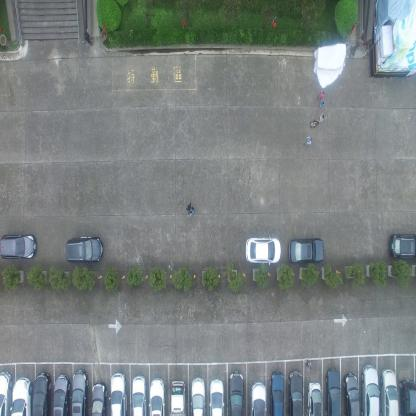car: (64, 235, 104, 264), (244, 235, 282, 265), (360, 364, 380, 416), (0, 232, 37, 260), (288, 237, 325, 265), (380, 366, 399, 415), (32, 370, 51, 416), (70, 367, 88, 415), (10, 374, 31, 415), (388, 231, 416, 260), (342, 372, 360, 416), (325, 366, 341, 415), (228, 368, 244, 415), (398, 374, 416, 415), (52, 374, 70, 415), (288, 370, 304, 416), (110, 372, 127, 415), (131, 373, 148, 415), (269, 370, 284, 415), (169, 380, 187, 416), (209, 376, 225, 416), (306, 379, 323, 415), (249, 380, 266, 416), (149, 377, 165, 415), (190, 377, 205, 415), (0, 368, 12, 415), (91, 380, 107, 415)
